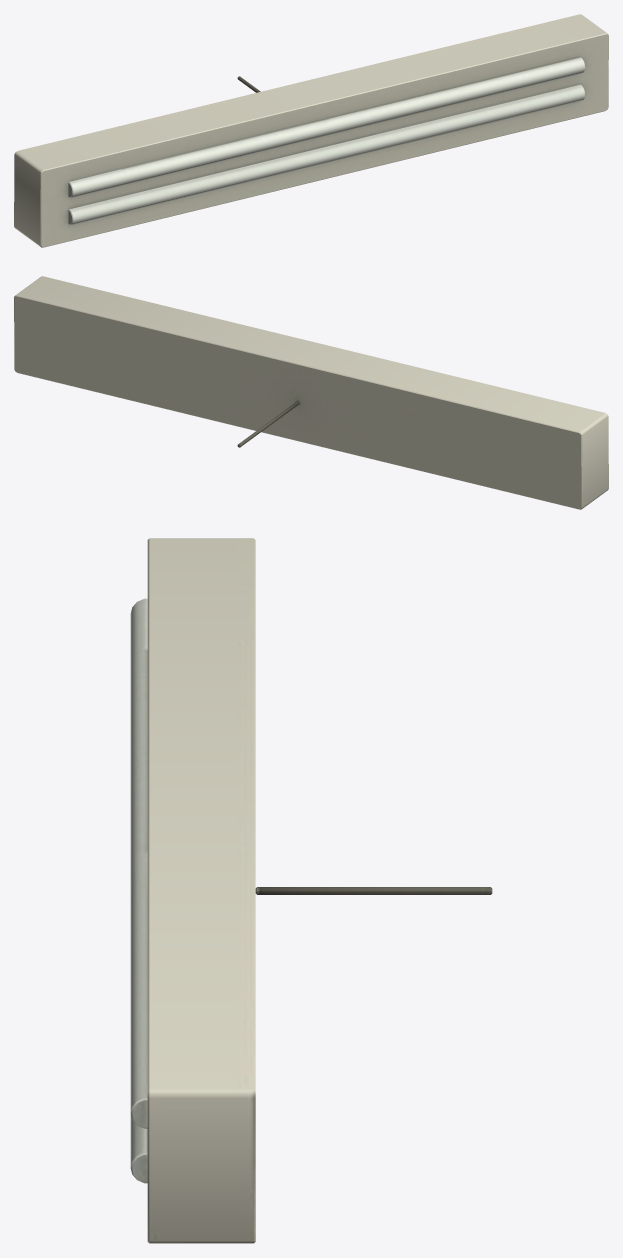
The model's file is LV_ceiling_light.glb.
3 renders of one model, top to bottom at view 1: azimuth 30°, elevation 25°; view 2: azimuth 150°, elevation 25°; view 3: azimuth 270°, elevation 25°, orthographic. The views are drawn at different scales.
Parts seen in each view (by area): view 1: LV_ceiling_light; view 2: LV_ceiling_light; view 3: LV_ceiling_light.
Boxes of the visible parts, x1,y1,x2,y2 form: LV_ceiling_light: (14,14,608,247); LV_ceiling_light: (14,276,608,509); LV_ceiling_light: (130,538,492,1243).
Bounding box in the file's own units: 1.22 × 0.16 × 0.336.
1 material, 1 textured.
